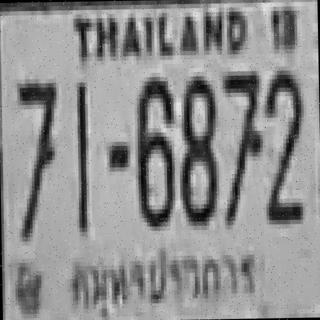N01: (75, 78, 88, 232)
N02: (262, 68, 304, 222)
N06: (134, 74, 173, 224)
N07: (16, 79, 57, 237), (221, 66, 262, 220)
N08: (178, 72, 217, 222)
P57: (62, 239, 265, 310)
